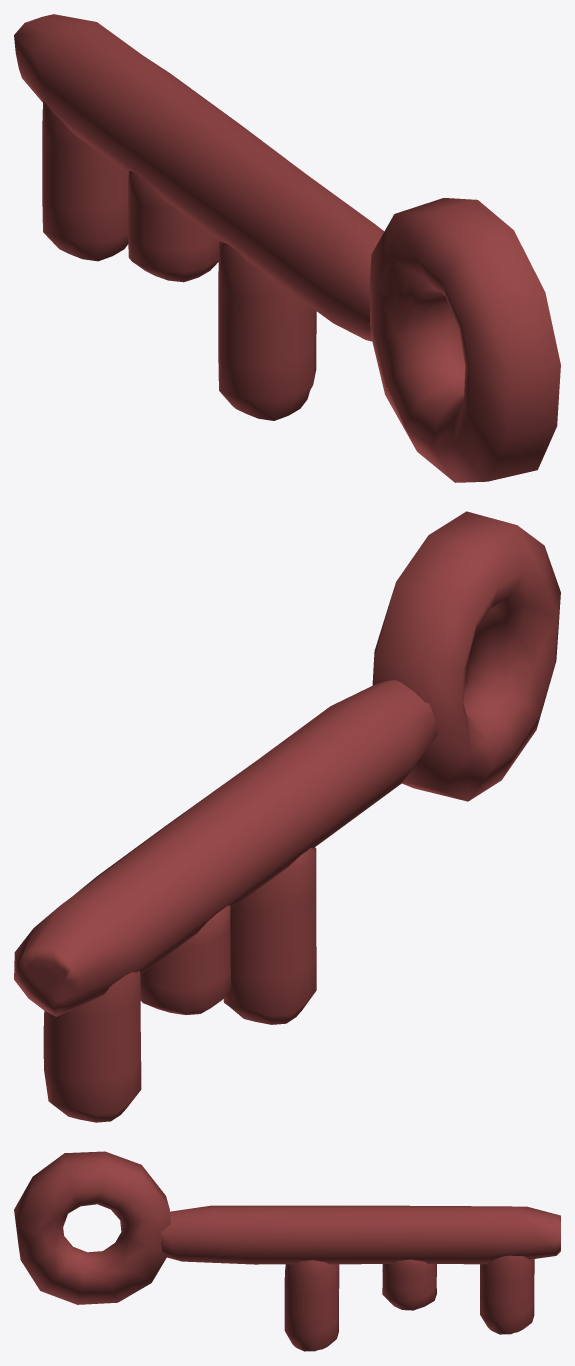
File: llave.fbx
3 renders of one model, top to bottom at view 1: azimuth 30°, elevation 25°; view 2: azimuth 150°, elevation 25°; view 3: azimuth 270°, elevation 25°, orthographic. The views are drawn at different scales.
Visible parts, largest first — view 1: cuerpo_llave, pTorus2, piston2, piston, piston1; view 2: cuerpo_llave, pTorus2, piston2, piston, piston1; view 3: cuerpo_llave, pTorus2, piston2, piston, piston1.
Boxes of the visible parts, x1=… form: cuerpo_llave: x1=14, y1=14, x2=384, y2=341; pTorus2: x1=369, y1=198, x2=560, y2=482; piston2: x1=218, y1=241, x2=316, y2=420; piston: x1=42, y1=100, x2=128, y2=261; piston1: x1=128, y1=171, x2=220, y2=282; cuerpo_llave: x1=14, y1=680, x2=437, y2=1016; pTorus2: x1=372, y1=511, x2=560, y2=801; piston2: x1=223, y1=847, x2=316, y2=1024; piston: x1=43, y1=971, x2=141, y2=1122; piston1: x1=140, y1=905, x2=230, y2=1014; cuerpo_llave: x1=160, y1=1205, x2=560, y2=1264; pTorus2: x1=14, y1=1151, x2=170, y2=1304; piston2: x1=284, y1=1260, x2=339, y2=1351; piston: x1=480, y1=1255, x2=534, y2=1334; piston1: x1=382, y1=1259, x2=436, y2=1310.
Size of the model in its own units: 0.144 by 0.4997 by 1.33.
